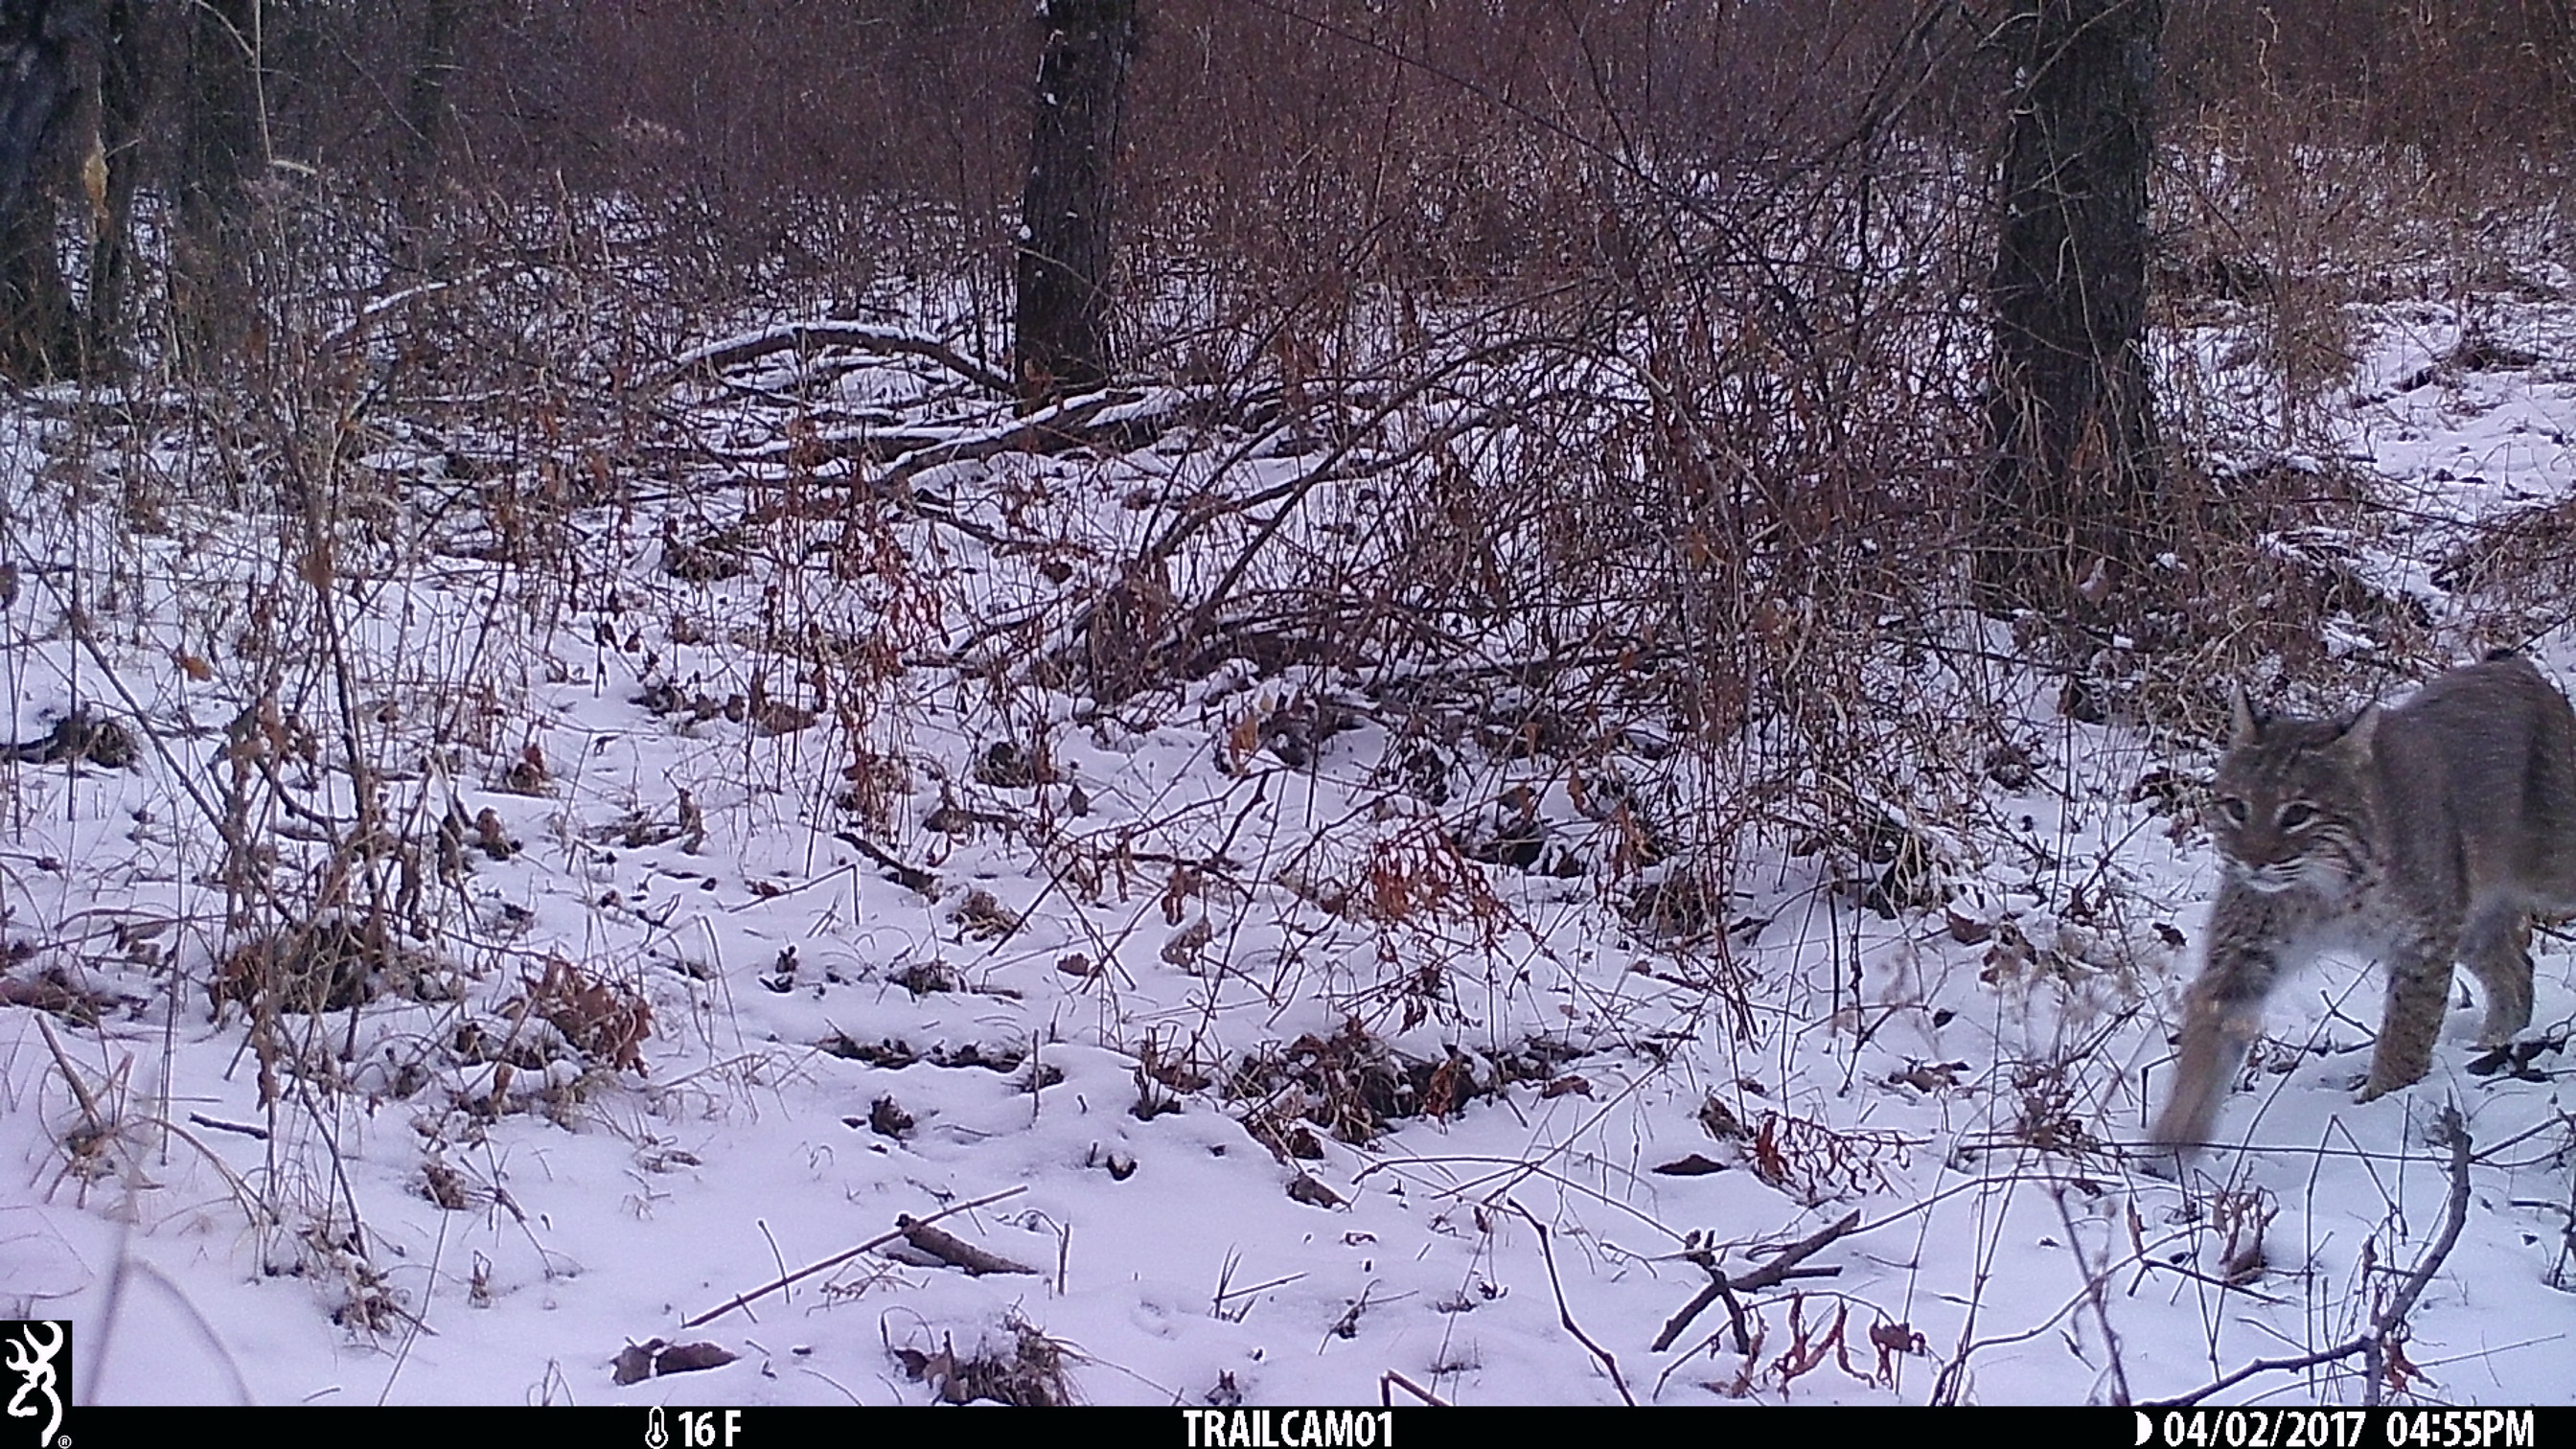Bobcat: (2146, 648, 2576, 1171)
